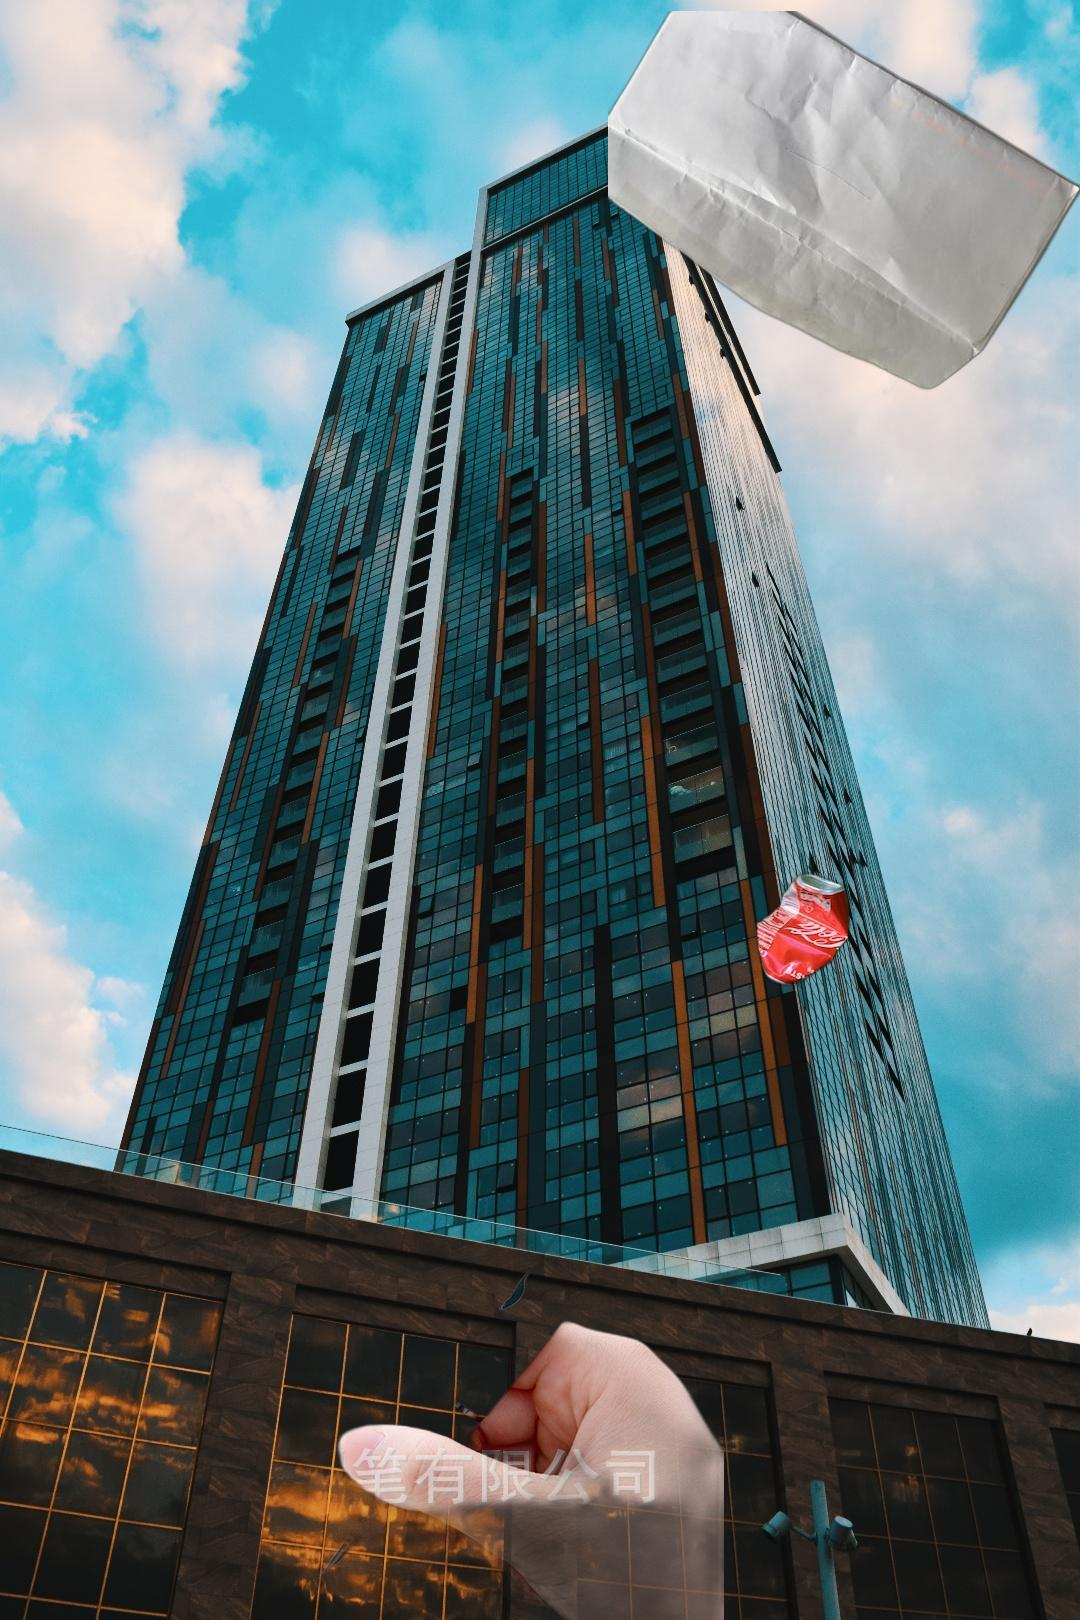metal-cans: (752, 413, 1080, 991)
paper: (607, 11, 1080, 393)
penholder: (70, 1192, 724, 1620)
